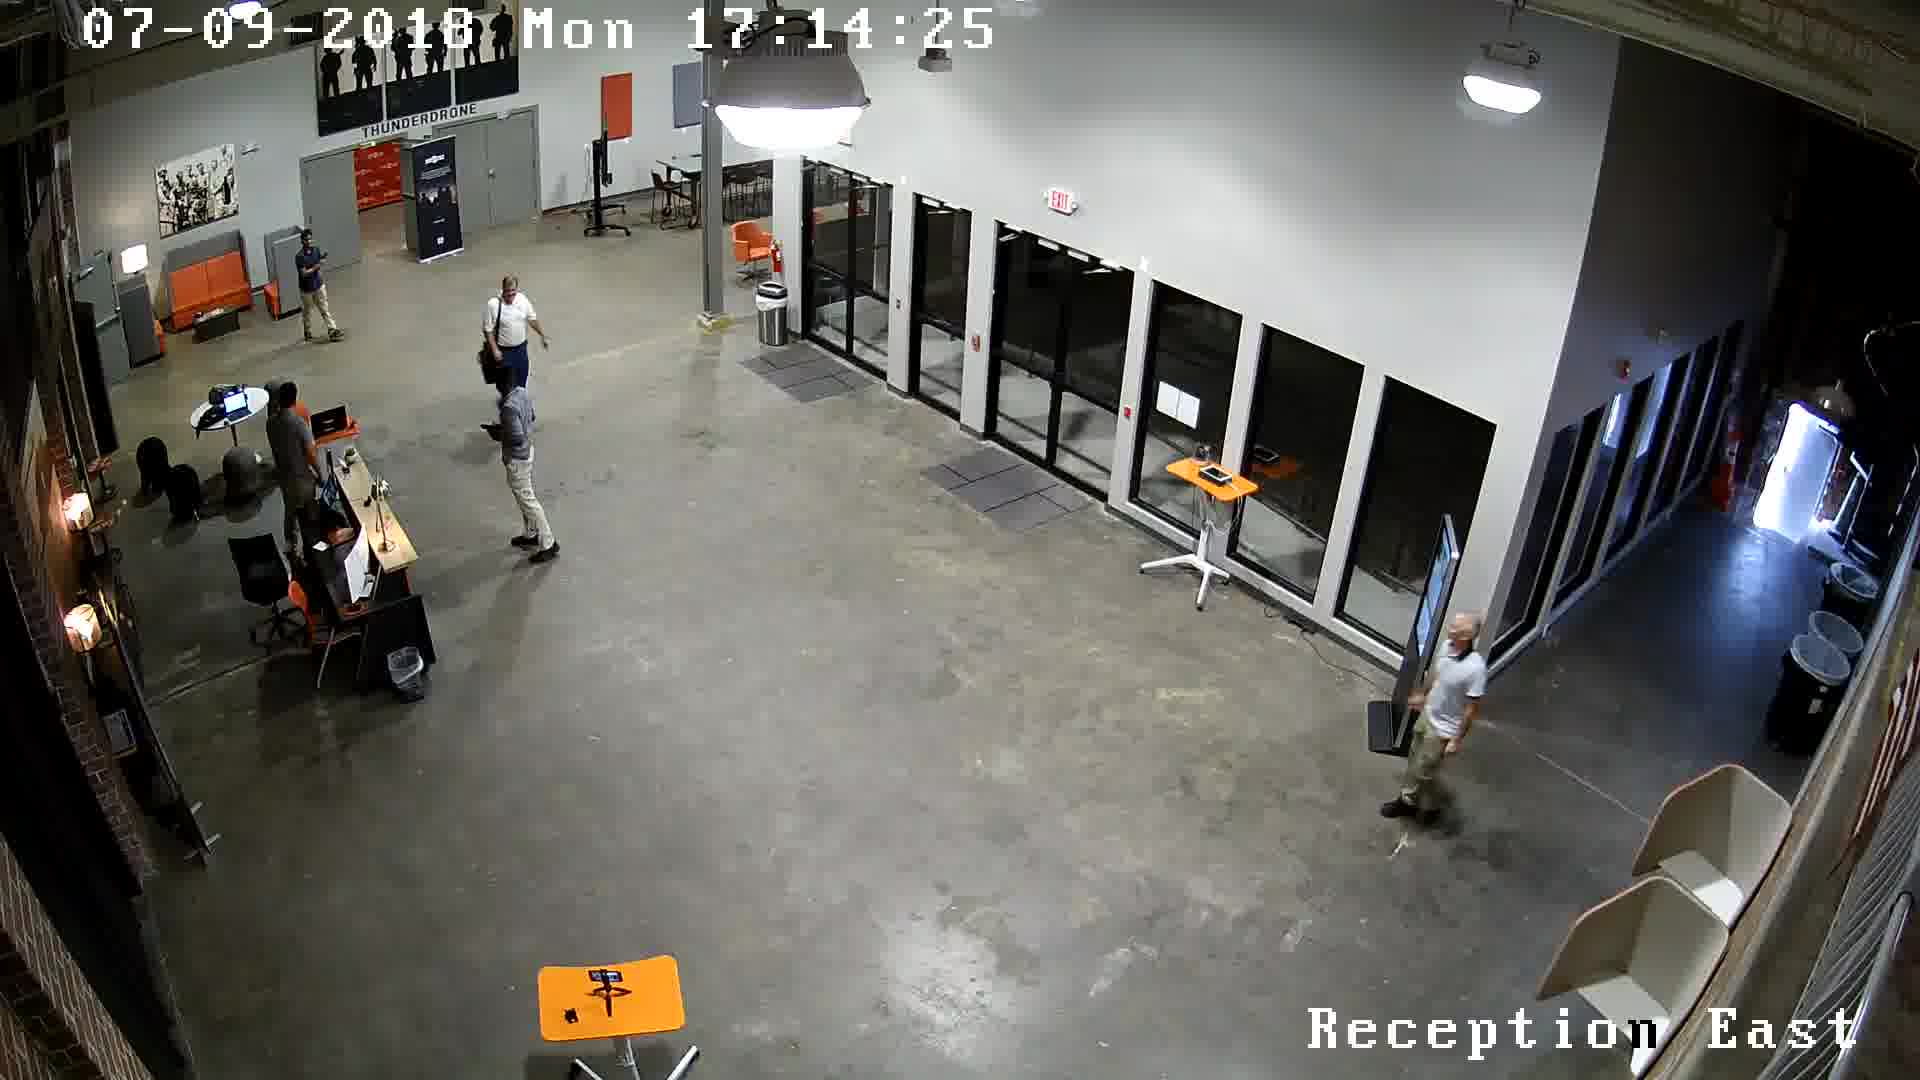pistol: (472, 407, 501, 447), (307, 249, 334, 273)
